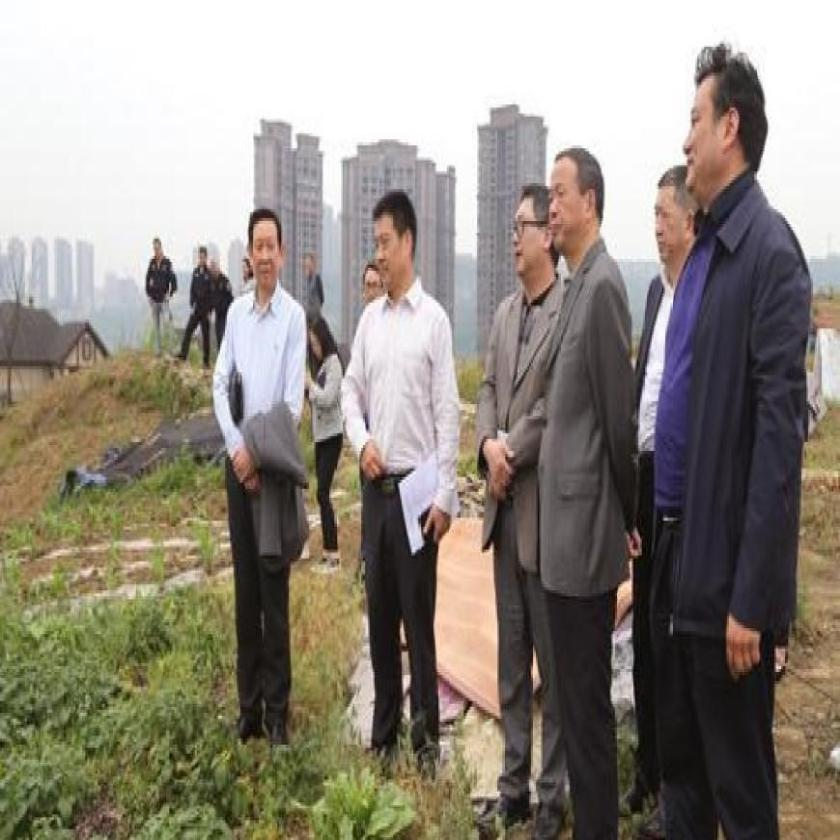Sin_casco: (687, 38, 770, 218), (546, 141, 606, 269), (506, 184, 556, 300), (649, 161, 691, 279), (369, 188, 411, 294), (248, 204, 283, 289), (309, 320, 336, 364), (360, 264, 380, 305), (304, 253, 320, 280), (197, 246, 209, 270), (152, 237, 164, 260)
